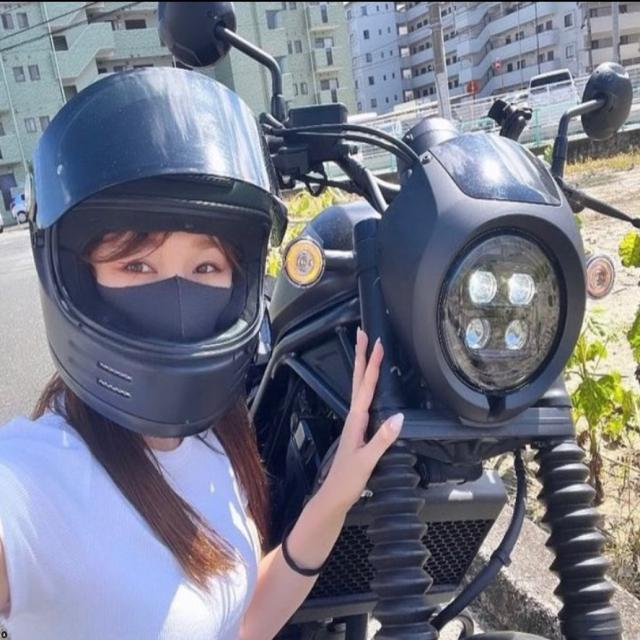helmet: (25, 59, 292, 447)
